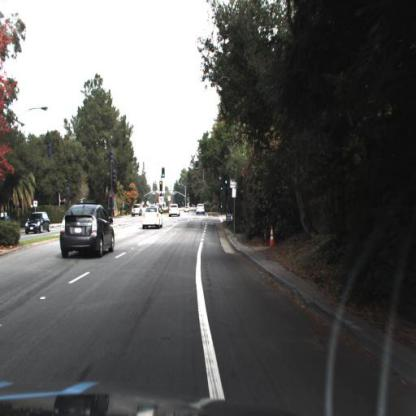car: (54, 199, 122, 266), (24, 210, 52, 239), (139, 203, 166, 232), (166, 202, 181, 222), (194, 200, 208, 221), (130, 201, 144, 219)
trafficLight-Green: (224, 168, 232, 190), (160, 167, 166, 182), (194, 157, 200, 172), (161, 167, 166, 181), (224, 179, 229, 193)
trafficLight-Red: (109, 190, 115, 207), (158, 180, 163, 192)
trafficLight-RedLeft: (107, 194, 115, 211), (158, 180, 165, 196)
